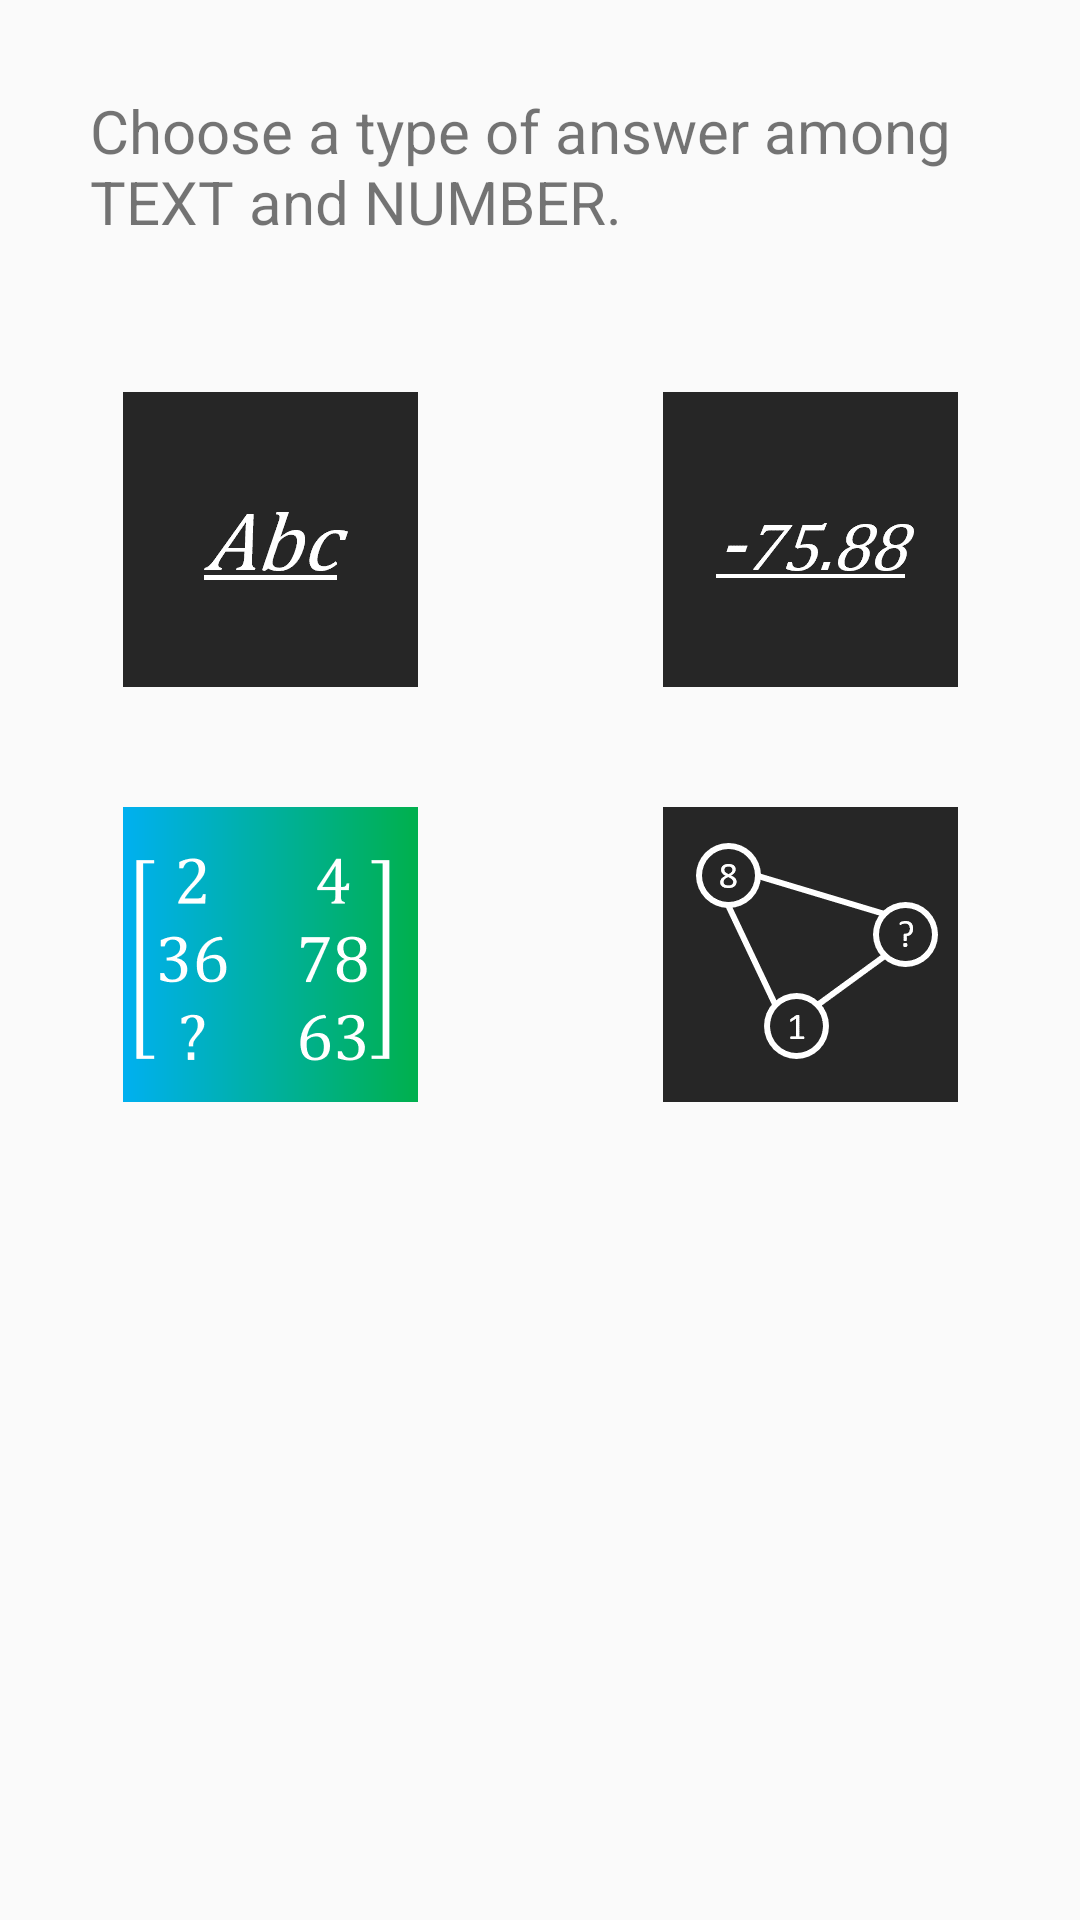

Named icons in this screenshot (1080px x 1920px) and their bounding boxes, (x1, y1, x2, y2):
graph answer: (663, 807, 958, 1102)
matrix answer: (123, 807, 418, 1102)
